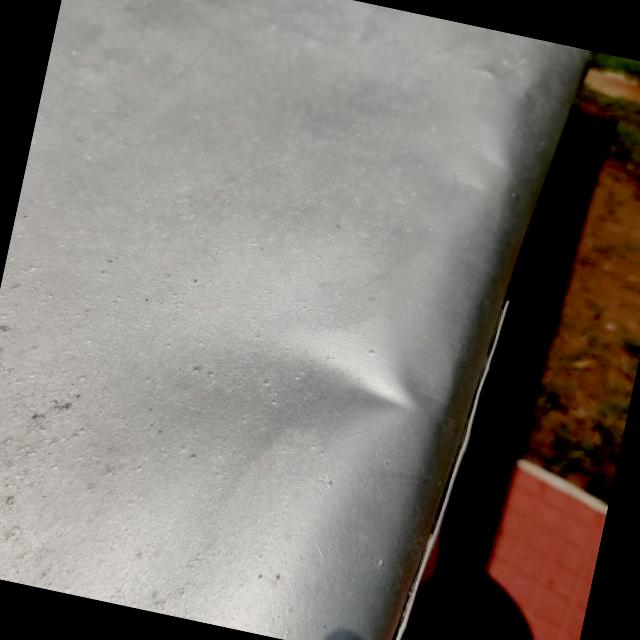dent: (265, 310, 450, 469)
